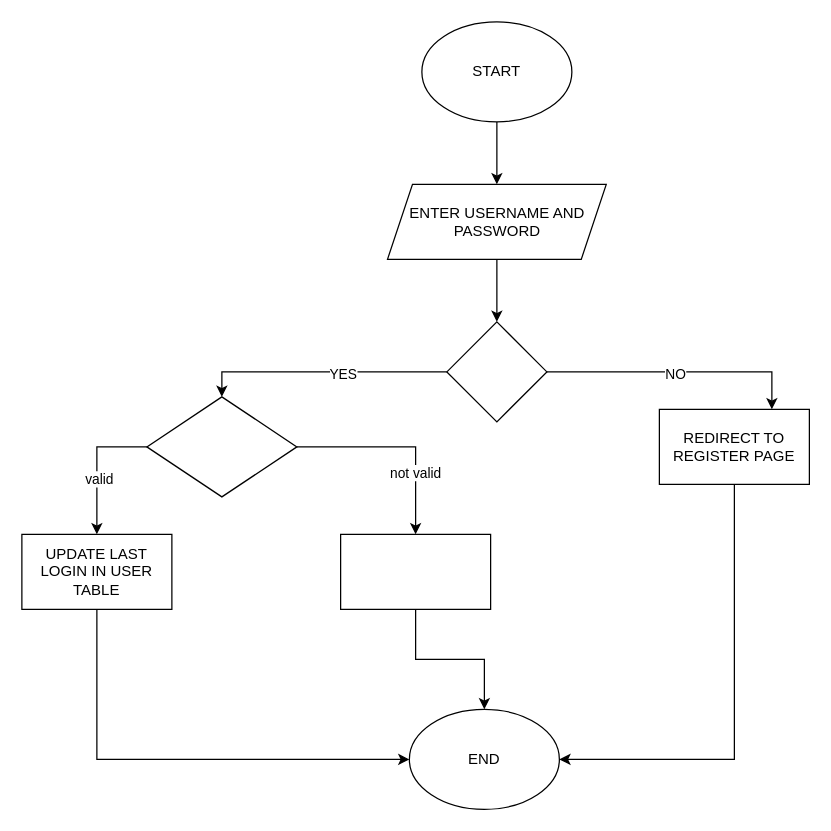
The diagram is 831 pixels wide and 831 high, and some of its shapes have lost their labels. The centre of each missing label's shape, as x and y in pixels:
"AUTHENTICATE USER" belongs at (x=221, y=446).
"SHOW INVALID CREDENTIALS ERROR" belongs at (x=415, y=571).
"USER EXISTS" belongs at (x=496, y=371).
